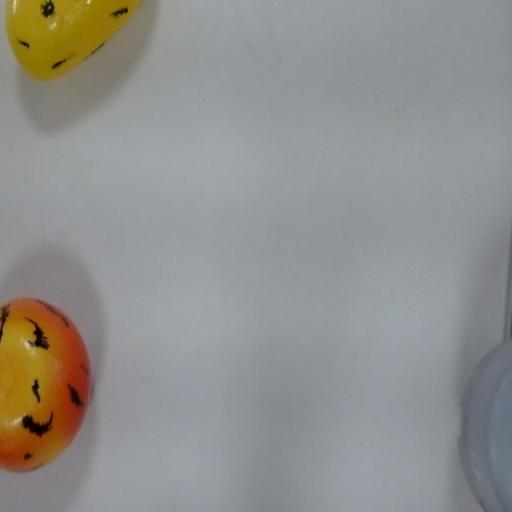Defective: (0, 279, 96, 506), (3, 0, 168, 79)
